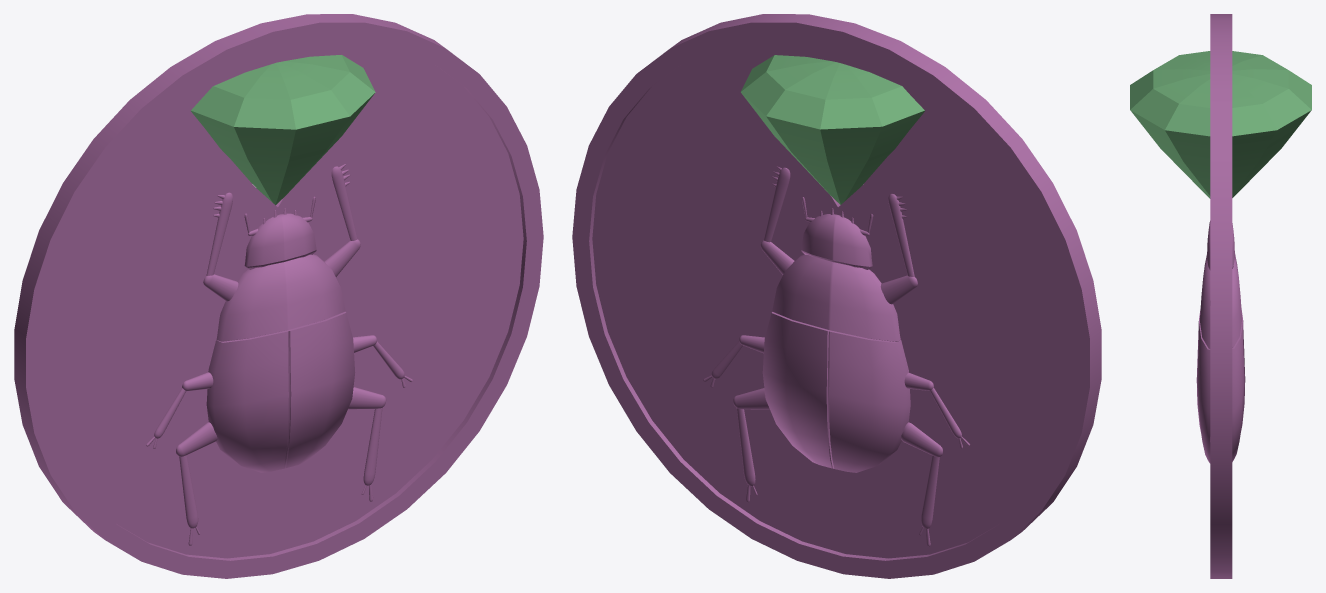
File: Moneda Diamante.fbx
The picture shows the model from 3 angles, left to right: view 1: azimuth 30°, elevation 25°; view 2: azimuth 150°, elevation 25°; view 3: azimuth 270°, elevation 25°; orthographic projection. The views are drawn at different scales.
Parts seen in each view (by area): view 1: Caparazon_Der5; view 2: Caparazon_Der5; view 3: Caparazon_Der5.
Part boxes in pixels (box(x1,y1,x2,y2)): Caparazon_Der5: box(14, 14, 543, 578); Caparazon_Der5: box(572, 14, 1101, 578); Caparazon_Der5: box(1130, 14, 1311, 578).
Size of the model in its own units: 4.66 by 4.67 by 1.5.
